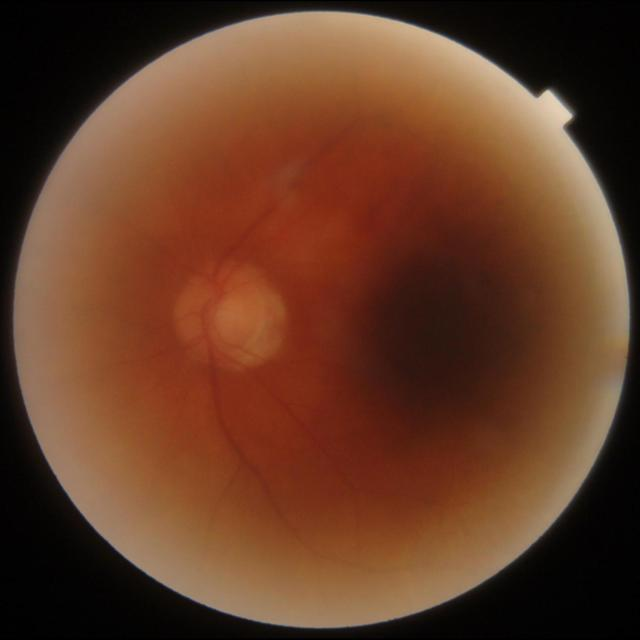OC: (212, 293, 244, 331)
OD: (176, 266, 260, 356)
